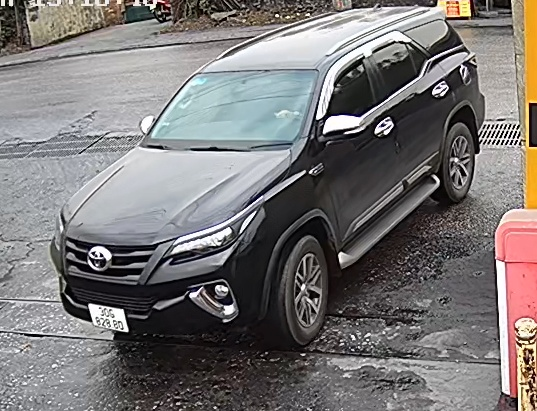vehicle plate: (85, 301, 134, 336)
